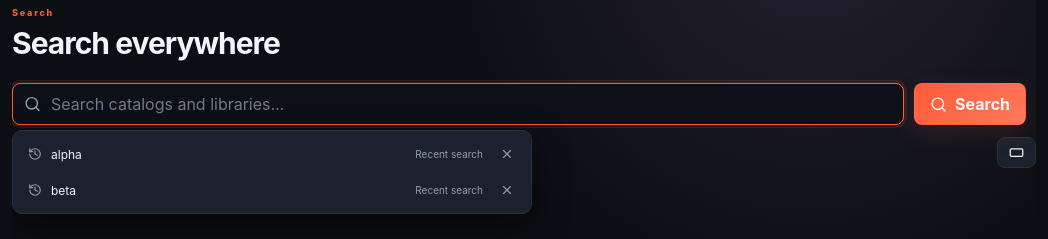
Test: SearchEverywhere › drops the recent searches under the focused field, like the Catalog search
The image size is (1048, 239).
Click the option "beta Recent search" at (449,190), box [18, 172, 526, 208]
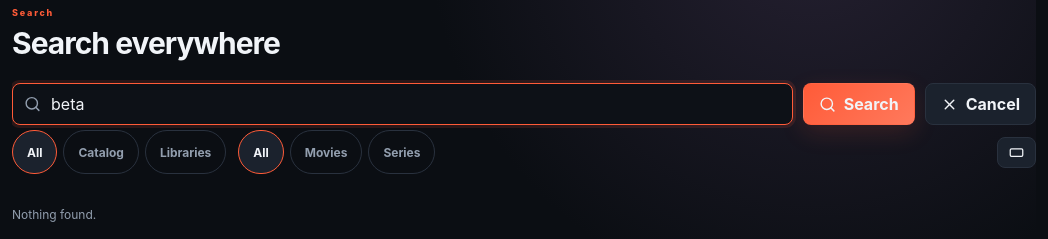
Expected: the list with id "search-all-suggestions" is gone
